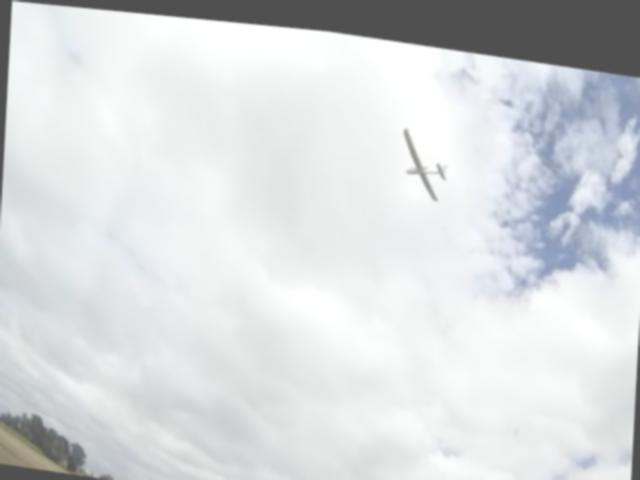uav: (391, 112, 460, 202)
